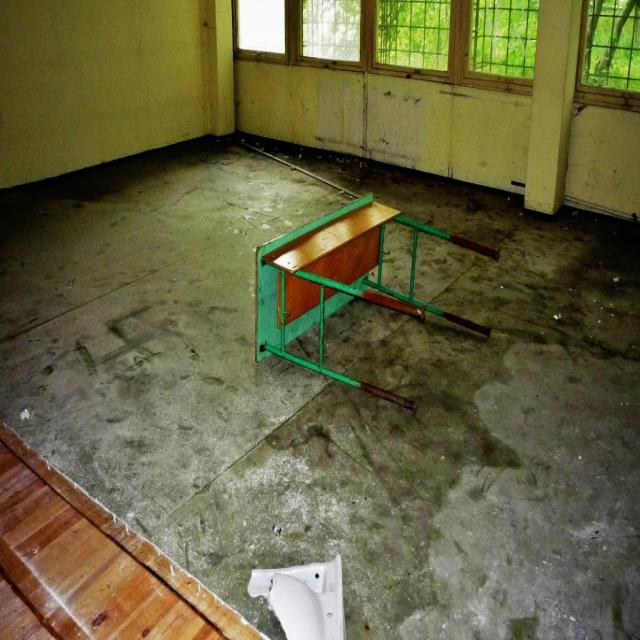desk: (250, 185, 481, 423)
